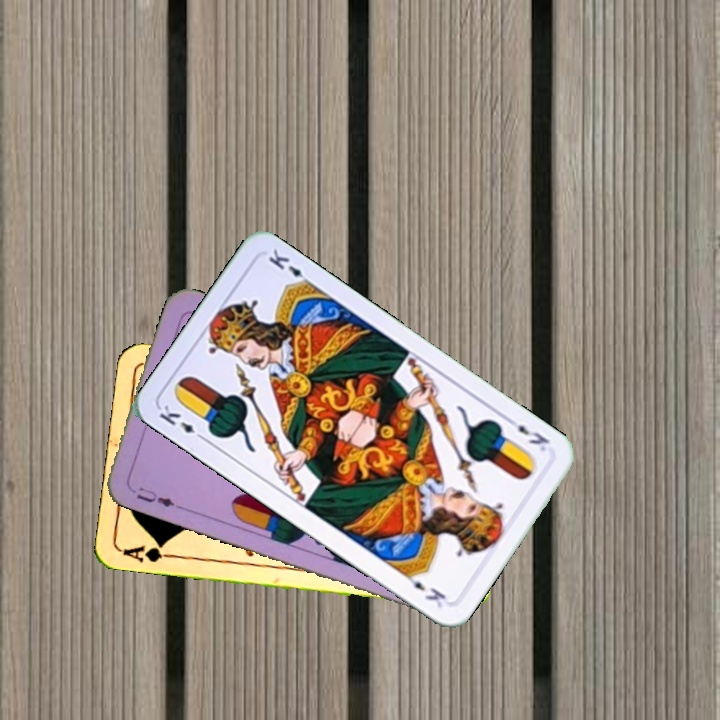EK: (155, 401, 209, 444), (502, 413, 552, 454)
EU: (125, 482, 182, 510)
GA: (118, 539, 178, 565)
